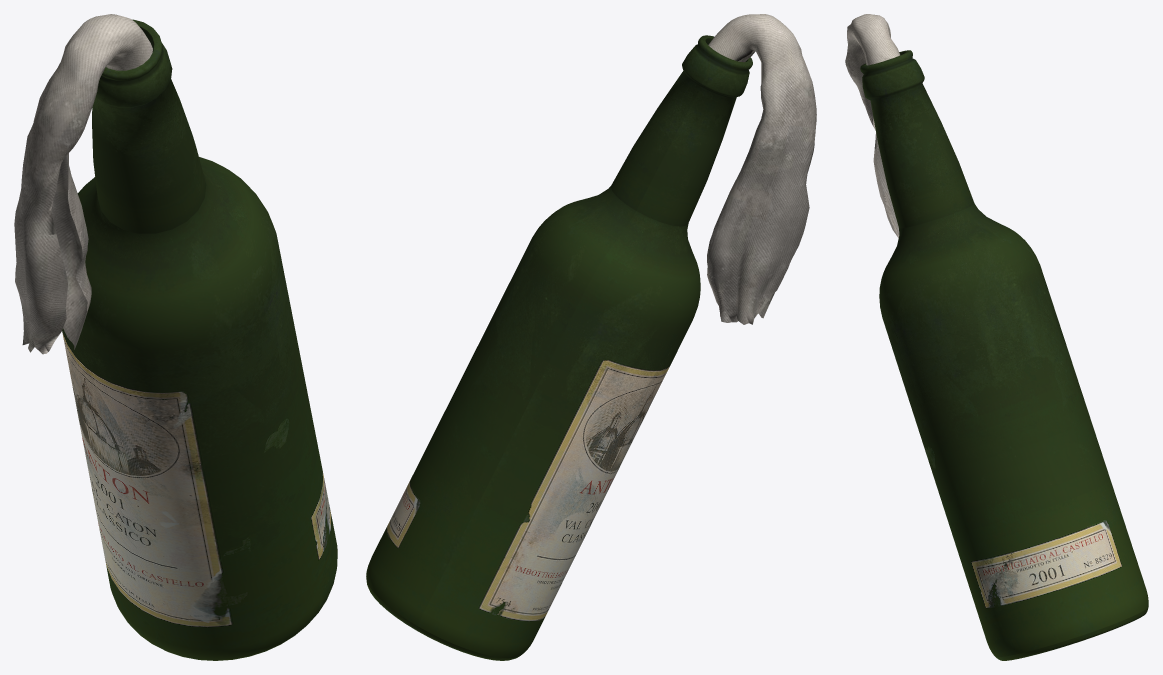
The model's file is molotov_r.glb.
3 views of the same model, side by side, from view 1: azimuth 30°, elevation 25°; view 2: azimuth 150°, elevation 25°; view 3: azimuth 270°, elevation 25° (orthographic). The views are drawn at different scales.
Visible parts, largest first — view 1: v_molotov_R; view 2: v_molotov_R; view 3: v_molotov_R.
Part boxes in pixels (<box>): v_molotov_R: <box>14,14,337,660</box>; v_molotov_R: <box>366,14,816,660</box>; v_molotov_R: <box>845,14,1148,660</box>.
Bounding box in the file's own units: 0.1887 × 0.3284 × 0.1618.
Materials: 3 (3 with a texture image).
